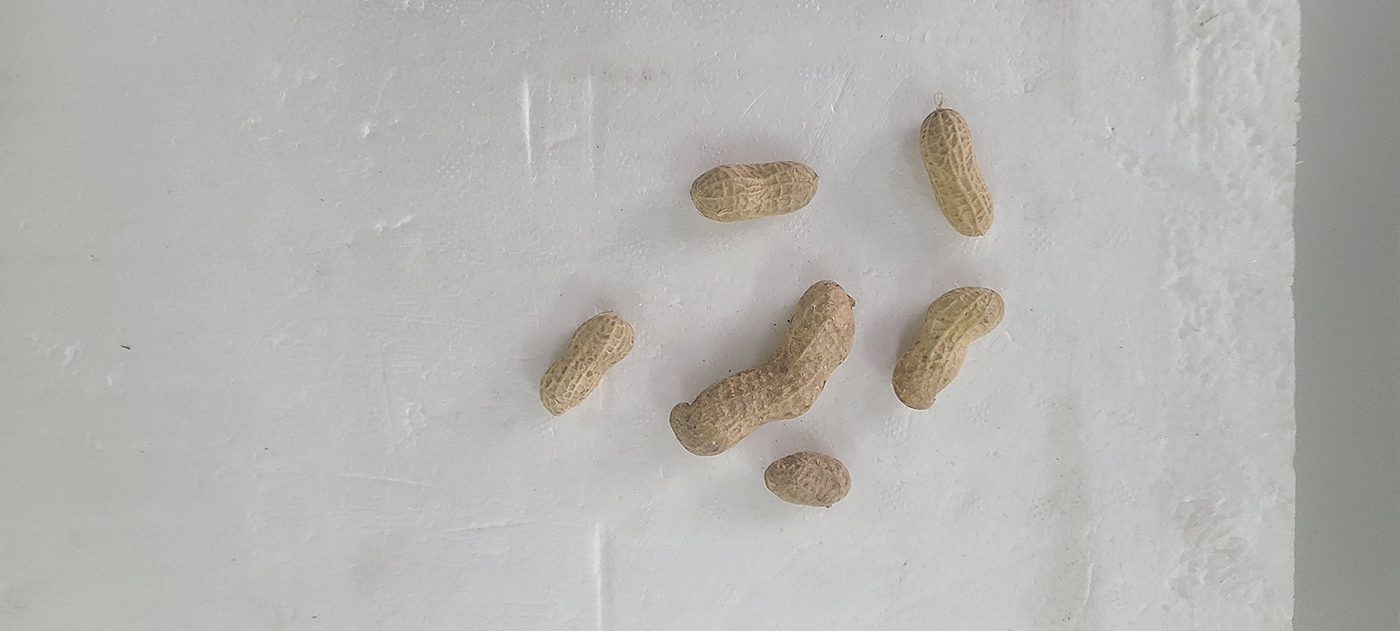h: (667, 280, 856, 458), (892, 286, 1006, 409), (920, 107, 996, 239), (540, 314, 634, 412), (690, 161, 819, 221)
l: (763, 451, 852, 509)
